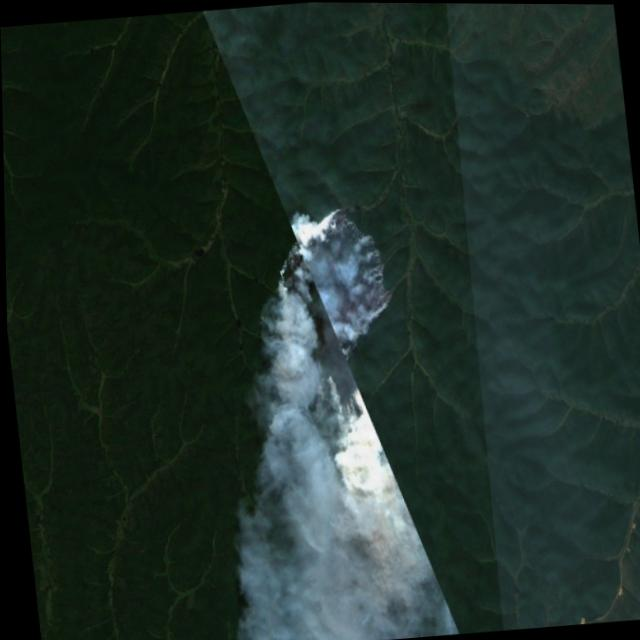fire: (259, 198, 407, 420)
